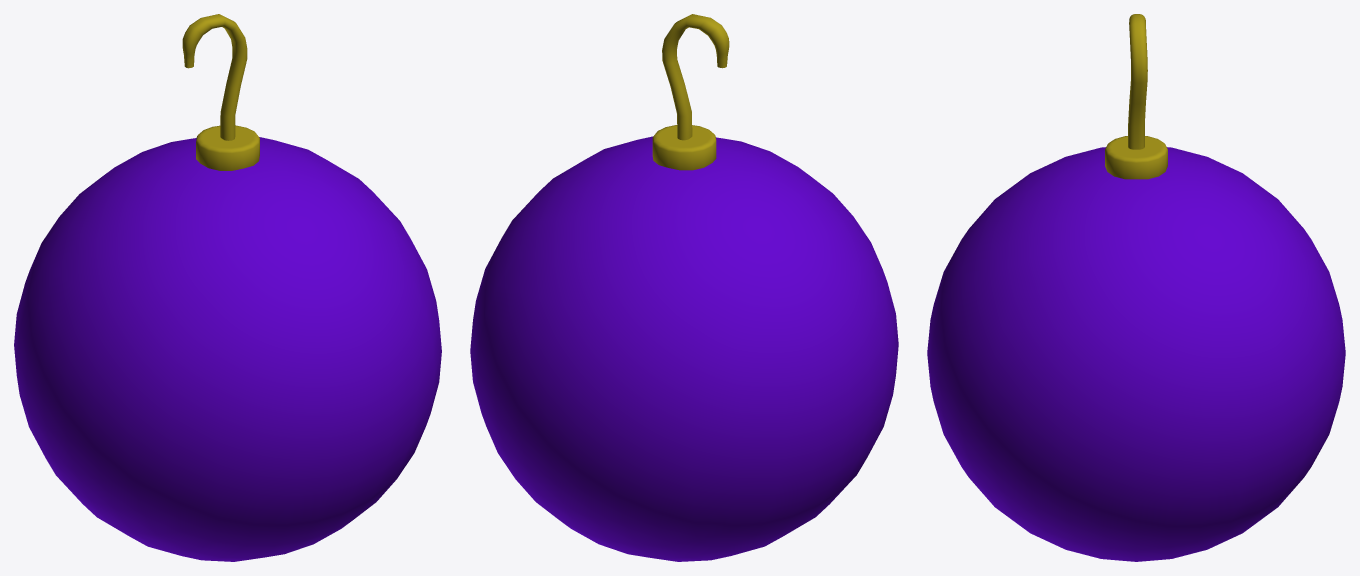
The model's file is ball_purple.glb.
3 renders of one model, left to right at view 1: azimuth 30°, elevation 25°; view 2: azimuth 150°, elevation 25°; view 3: azimuth 270°, elevation 25°, orthographic. The views are drawn at different scales.
Parts seen in each view (by area): view 1: Ball_purple; view 2: Ball_purple; view 3: Ball_purple.
Part boxes in pixels (x1=…): Ball_purple: x1=14, y1=14, x2=441, y2=561; Ball_purple: x1=470, y1=14, x2=898, y2=561; Ball_purple: x1=927, y1=14, x2=1345, y2=561.
Bounding box in the file's own units: 0.0894 × 0.1217 × 0.0894.
